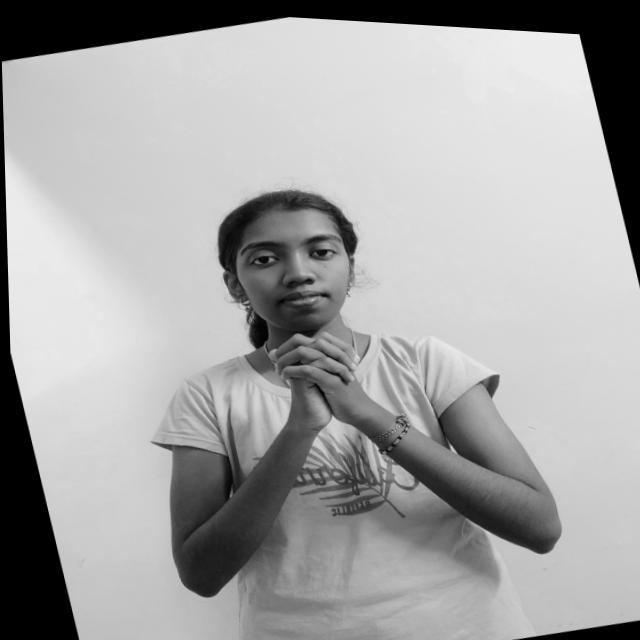Sorry: (250, 311, 391, 454)
